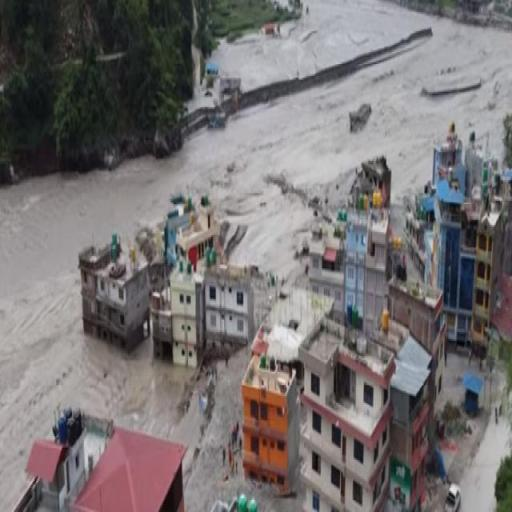flood: (0, 0, 512, 512)
house: (302, 310, 400, 512), (438, 156, 512, 330), (64, 424, 187, 511), (162, 255, 259, 363), (240, 310, 296, 484), (390, 329, 443, 503), (88, 243, 165, 350), (340, 174, 392, 316), (159, 194, 221, 256), (24, 440, 84, 494)
